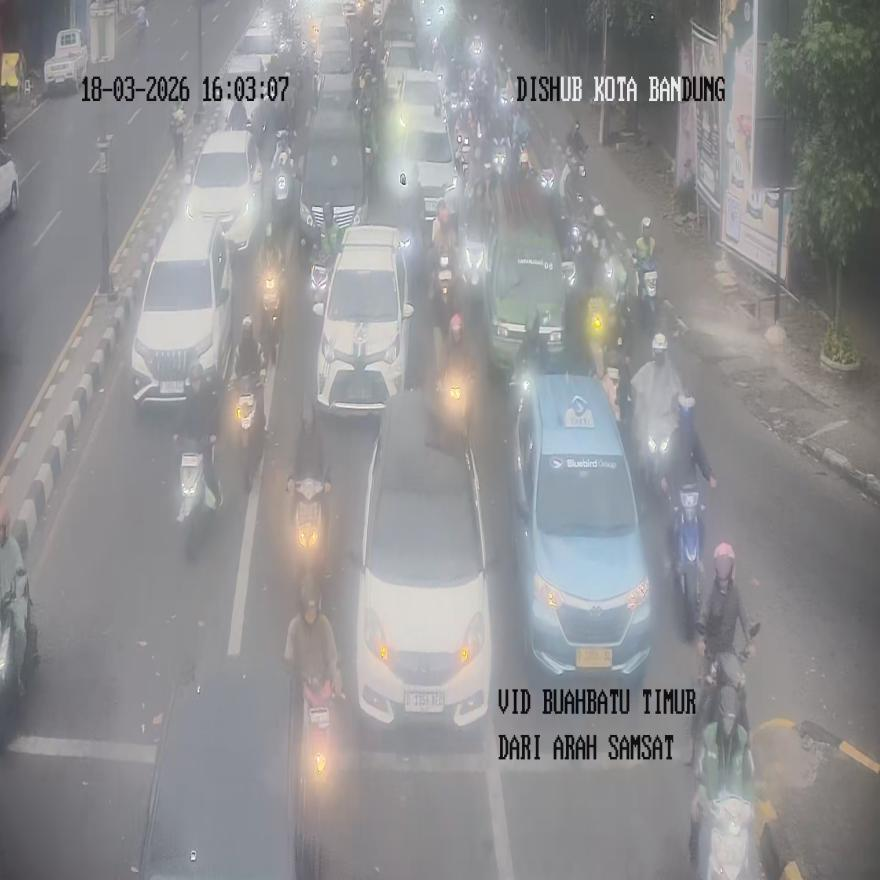Motor: (356, 389, 491, 729), (510, 372, 653, 683), (139, 658, 322, 879), (130, 211, 233, 407), (312, 225, 412, 415), (185, 128, 262, 259)
Truk: (0, 570, 37, 742), (176, 434, 220, 558), (669, 486, 704, 641), (286, 471, 330, 587), (436, 313, 473, 440), (232, 373, 261, 492), (269, 130, 297, 228), (636, 252, 658, 335)
